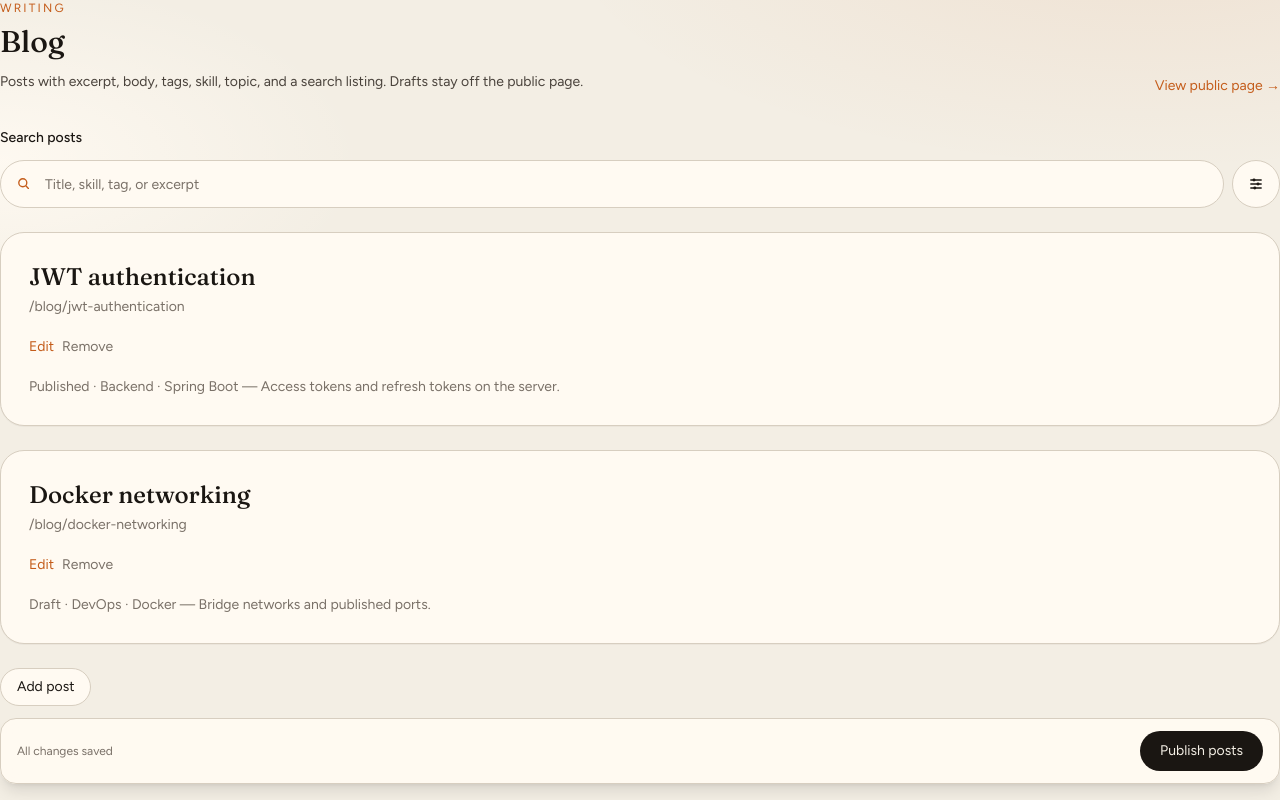
Test: AdminBlogsPage › filters the list by skill and draft status
The image size is (1280, 800).
Expected: the heading "JWT authentication" is shown, [29,262,256,291]
Expected: the heading "Docker networking" is shown, [29,480,250,509]
Step 1. Click the button named "Filters" → (1256, 184), box [1232,160,1279,208]
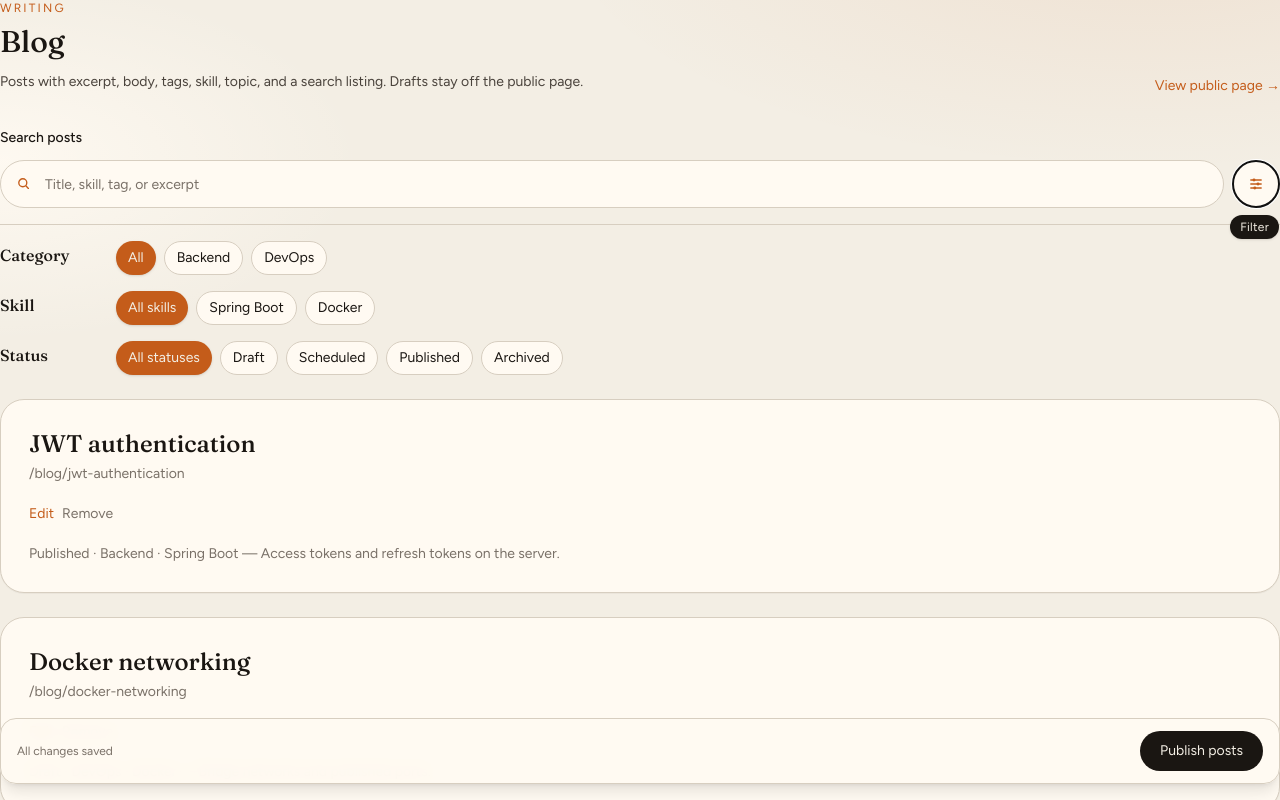
Step 2. Click the button "Docker" → (340, 308), box [305,291,375,325]
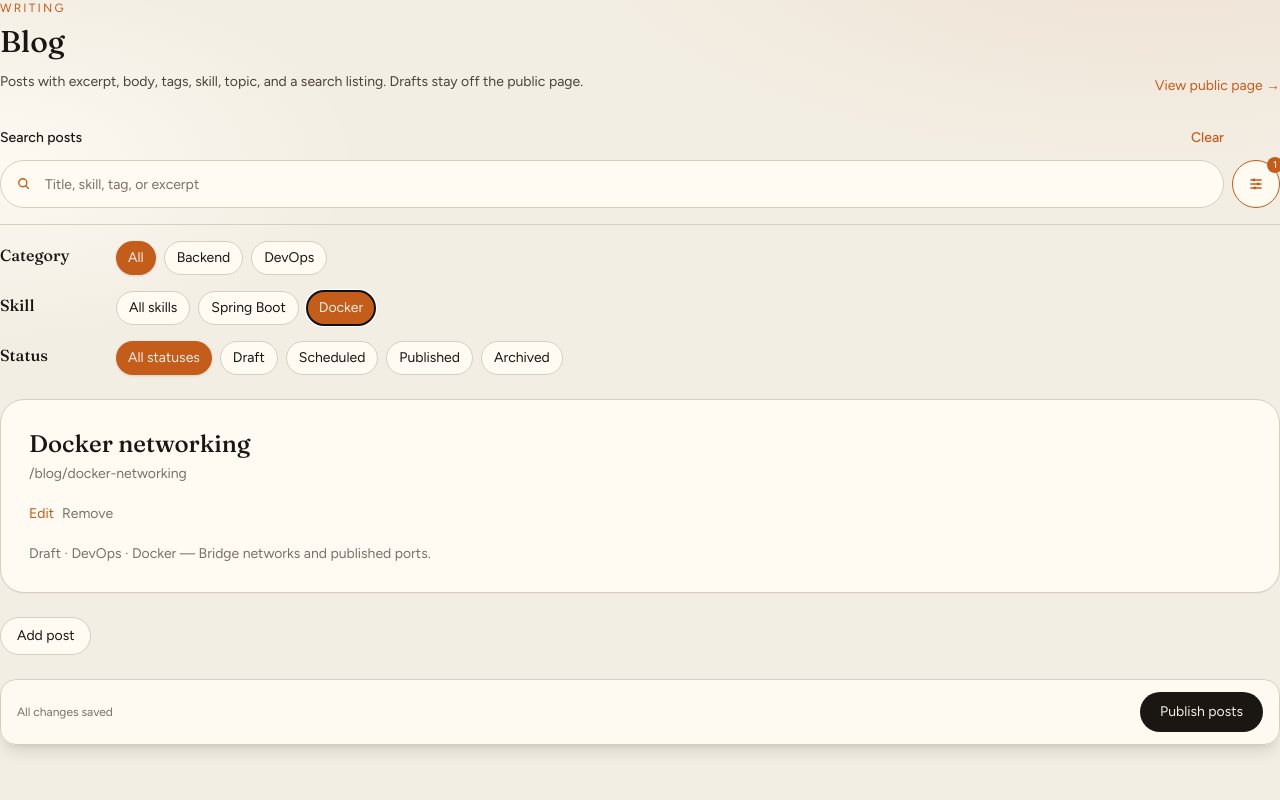
Expected: the heading "Docker networking" is shown, [29,429,250,458]
Expected: the heading "JWT authentication" is gone
Step 3. Click the button "All skills" → (153, 308), box [116,291,190,325]
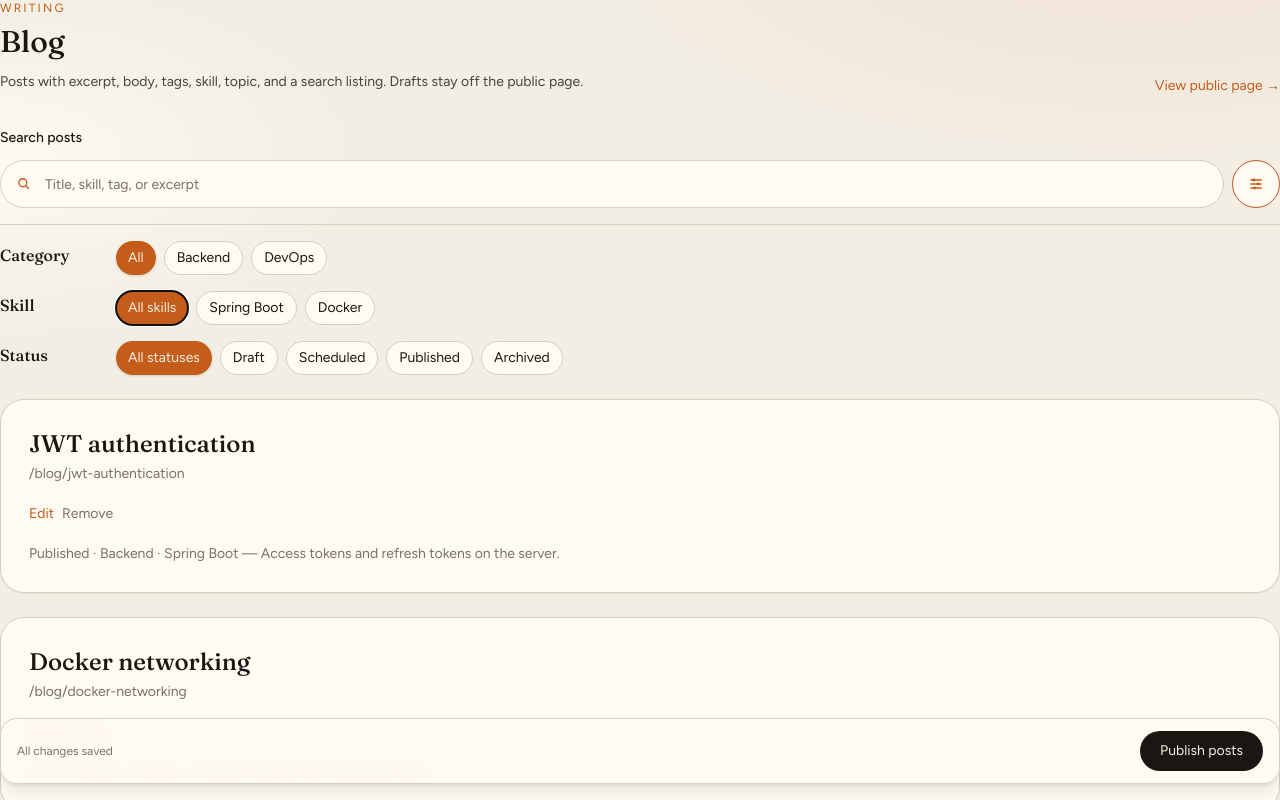
Step 4. Click the button "Draft" → (249, 358), box [220,341,278,375]
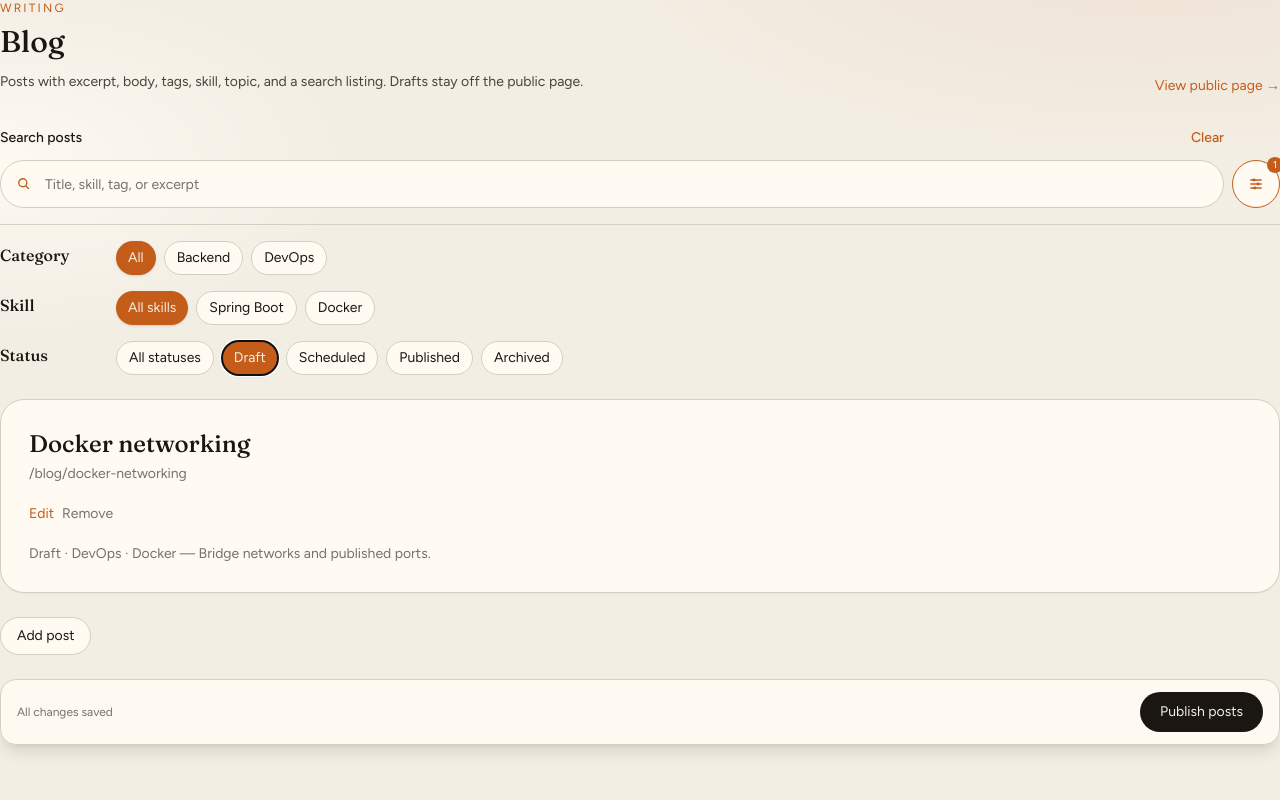
Expected: the heading "Docker networking" is shown, [29,429,250,458]
Expected: the heading "JWT authentication" is gone
Step 5. Click the button "Published" → (430, 358), box [386,341,473,375]
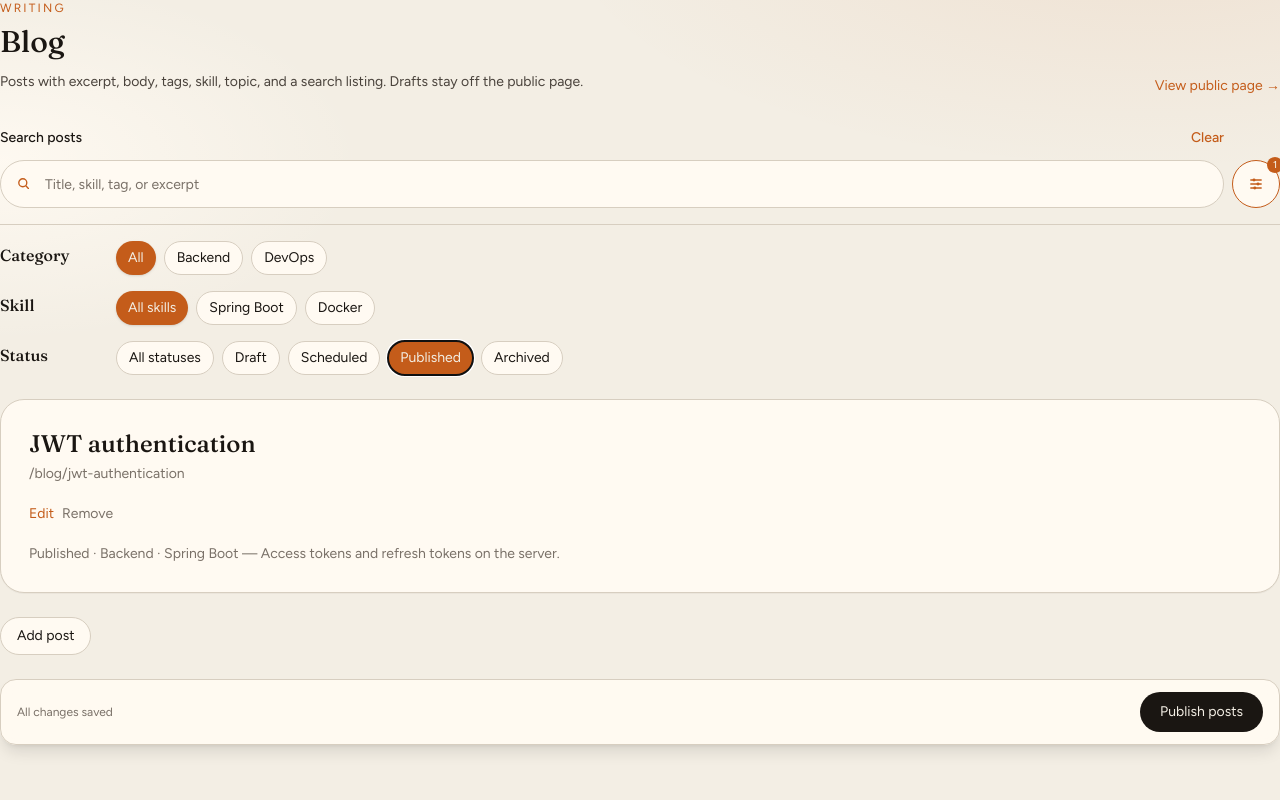
Expected: the heading "JWT authentication" is shown, [29,429,256,458]
Expected: the heading "Docker networking" is gone
